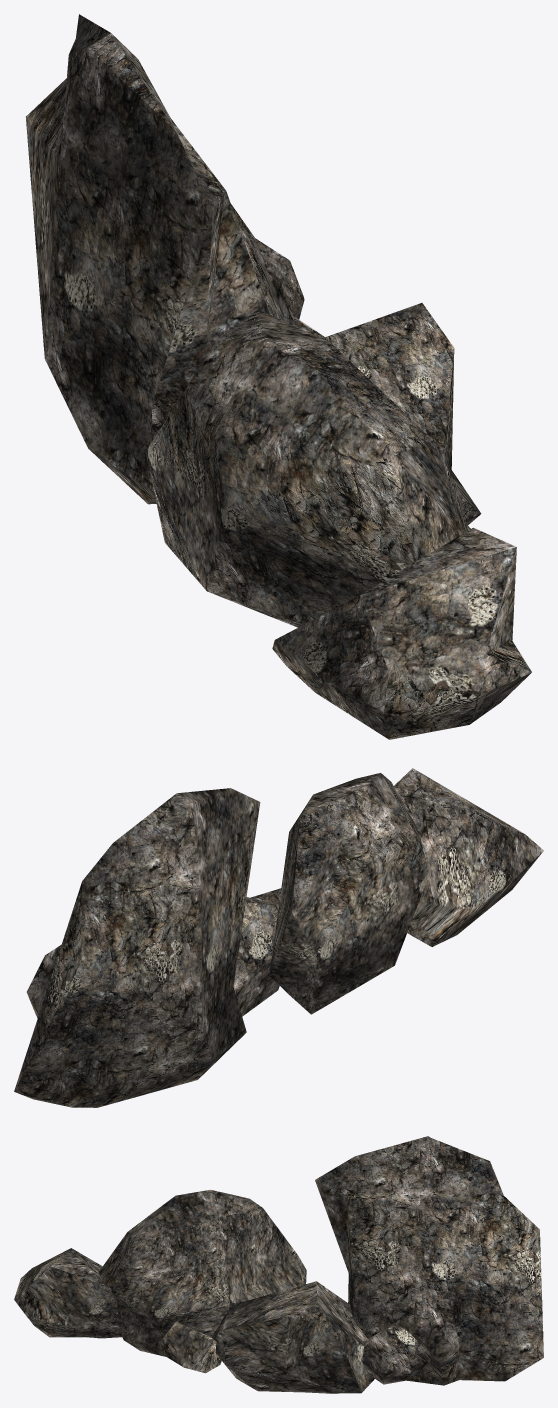
File: pir_m_prp_dvj_rockGroupBare_c.fbx
The picture shows the model from 3 angles, top to bottom: view 1: azimuth 30°, elevation 25°; view 2: azimuth 150°, elevation 25°; view 3: azimuth 270°, elevation 25°; orthographic projection. The views are drawn at different scales.
Visible parts, largest first — view 1: rock_4, rock_5, rock_0, rock_3; view 2: rock_4, rock_5, rock_0, rock_3; view 3: rock_4, rock_5, rock_3, rock_0, rock_1, rock_2.
Boxes of the visible parts, bbox=[...] form: rock_4: bbox=[26, 14, 304, 504]; rock_5: bbox=[145, 309, 467, 627]; rock_0: bbox=[272, 527, 531, 739]; rock_3: bbox=[322, 303, 481, 524]; rock_4: bbox=[14, 788, 260, 1107]; rock_5: bbox=[269, 773, 429, 1014]; rock_0: bbox=[394, 768, 543, 946]; rock_3: bbox=[233, 897, 279, 1016]; rock_4: bbox=[315, 1136, 543, 1385]; rock_5: bbox=[98, 1189, 306, 1356]; rock_3: bbox=[211, 1281, 374, 1393]; rock_0: bbox=[14, 1248, 121, 1338]; rock_1: bbox=[362, 1324, 427, 1384]; rock_2: bbox=[163, 1321, 221, 1373].
Size of the model in its own units: 2539 by 2988 by 6421.
Materials: 1 (1 with a texture image).
